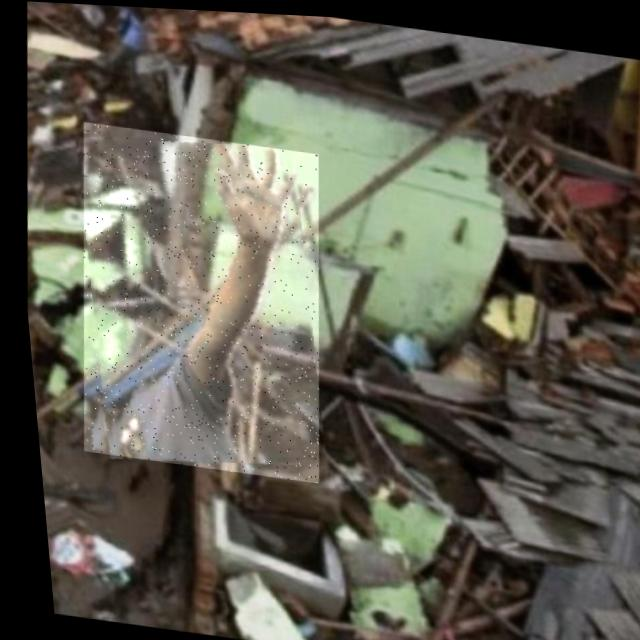Person in Rubble: (52, 119, 339, 481)
